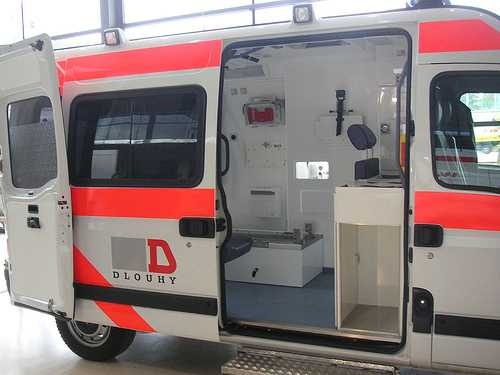Ambulance: (6, 12, 497, 375)
